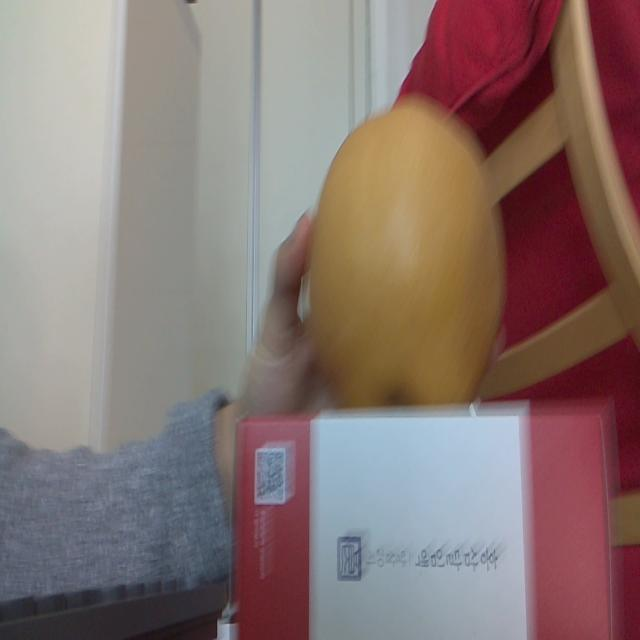pear: (306, 94, 506, 413)
